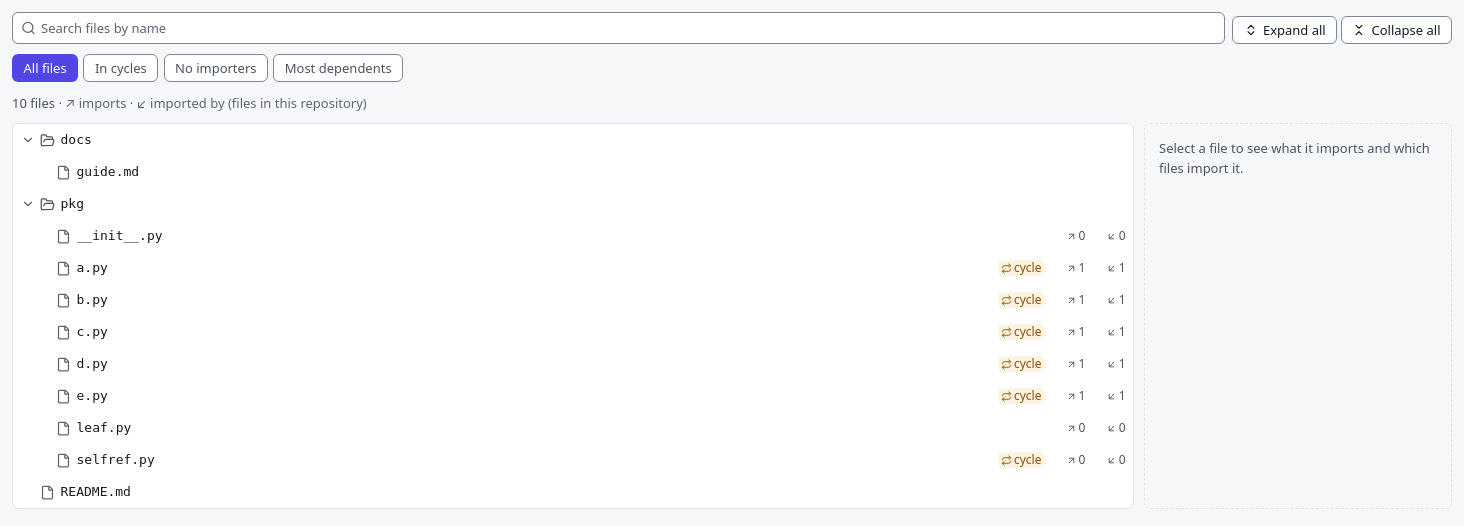
Test: filters and actions (X2) › filters to files in cycles, without importers, or by name
Click the button "In cycles".
click(121, 68)  # box top-left (83, 54), bottom-right (158, 82)
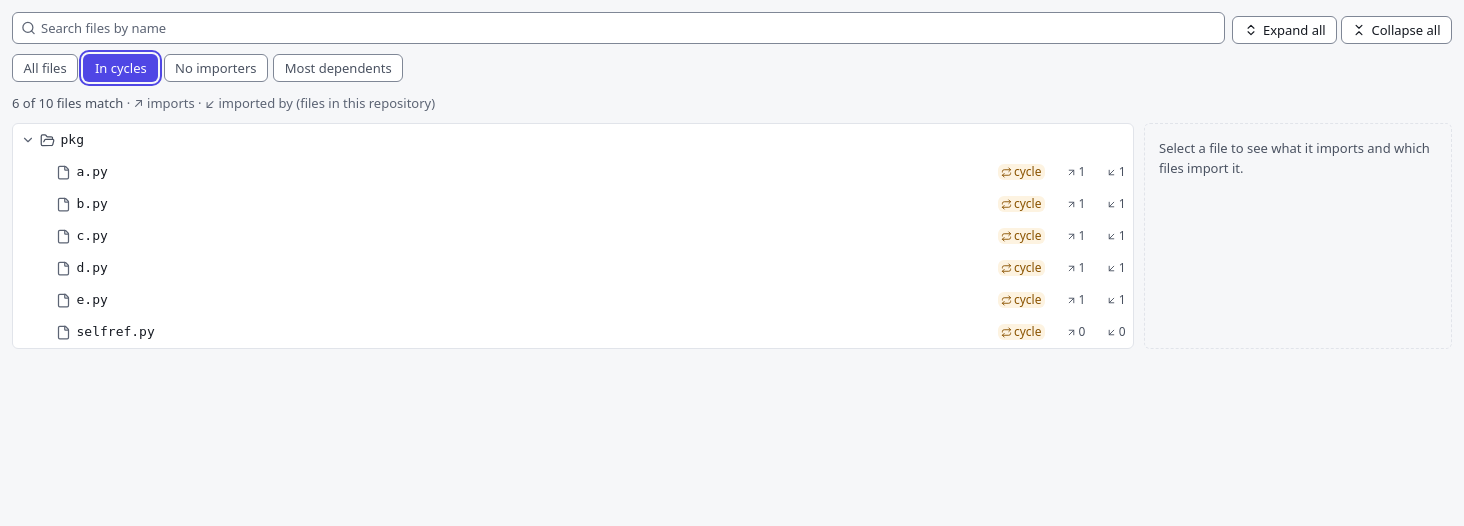
Check: the list item with aria-label "selfref.py," is shown, box top-left (56, 323), bottom-right (1126, 340)
Check: the text "6 of 10 files match · ↗ imports · ↙ imported by (files in this repository)" is shown, box top-left (12, 94), bottom-right (435, 112)
Click the button "No importers".
click(216, 68)  # box top-left (164, 54), bottom-right (268, 82)
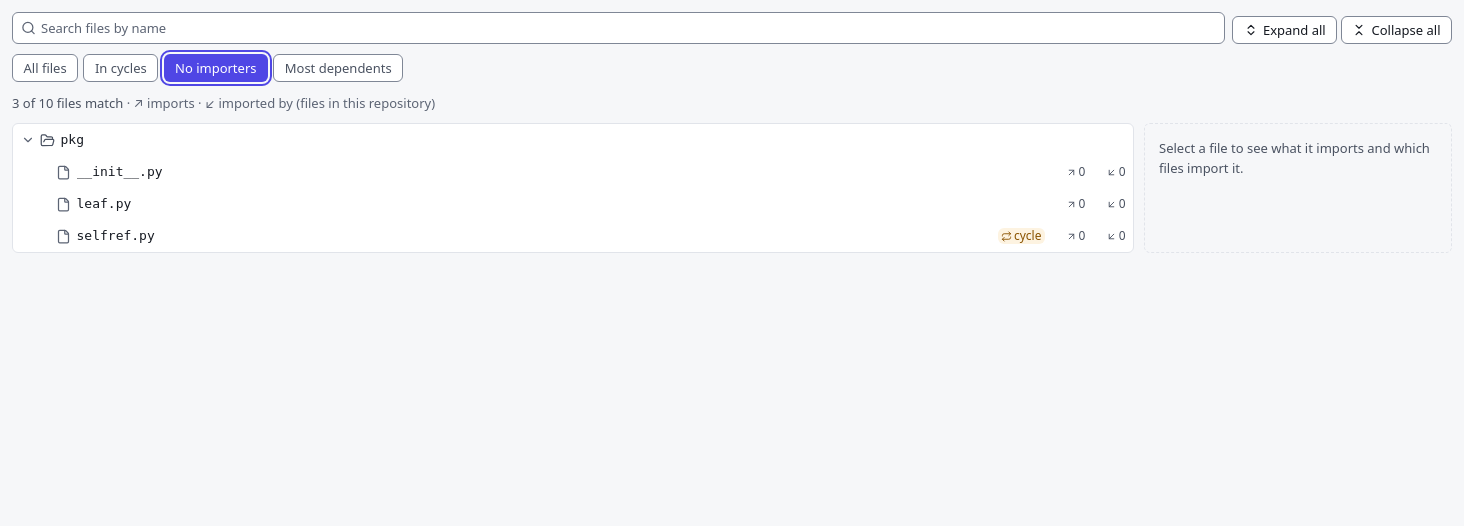
Check: the list item with aria-label "leaf.py," is shown, box top-left (56, 195), bottom-right (1126, 212)
Click the button "All files".
click(45, 68)  # box top-left (12, 54), bottom-right (78, 82)
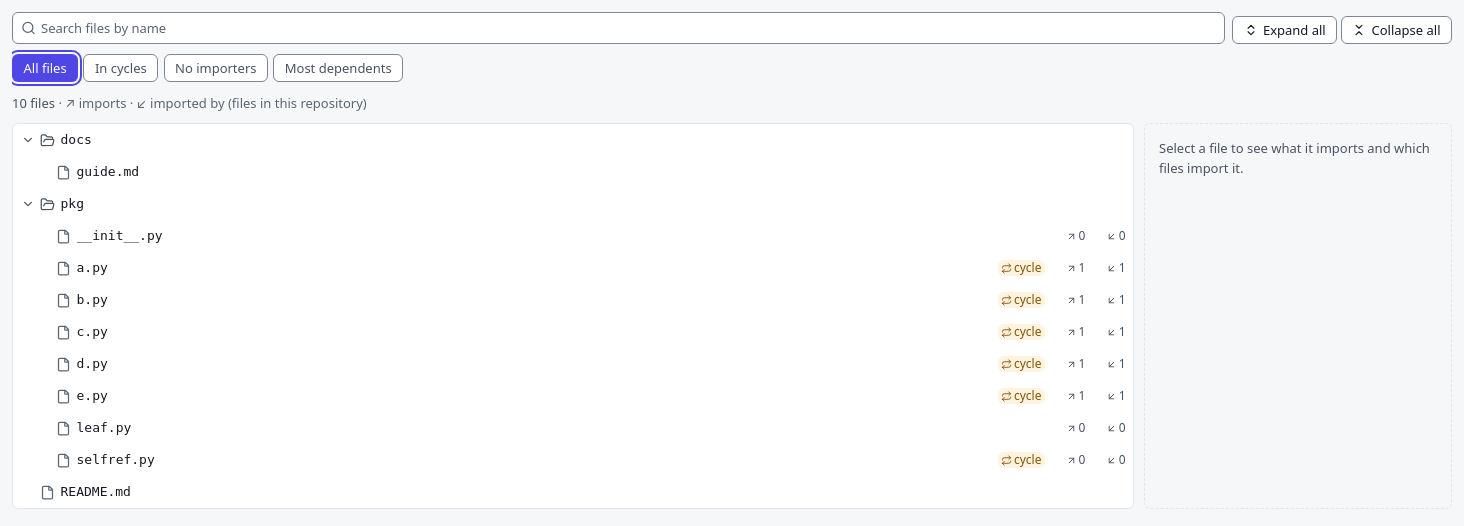
Type "guide" into the search field labelled "Search files by name".
click(619, 28); type("guide")  # box top-left (12, 12), bottom-right (1225, 44)
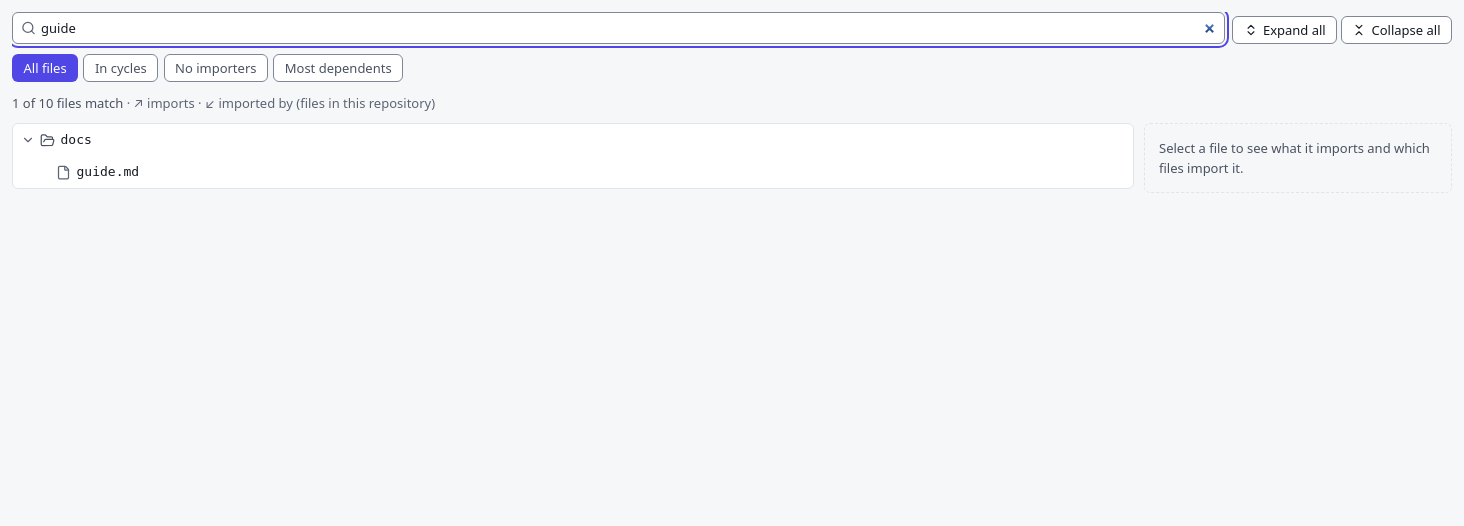
Check: the list item "guide.md" is shown, box top-left (56, 164), bottom-right (139, 180)
Check: the number of list items is 2, box top-left (21, 132), bottom-right (92, 148); top-left (56, 164), bottom-right (139, 180)
